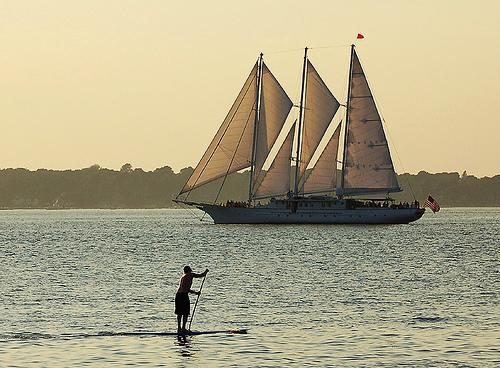Ship: (173, 47, 426, 224)
